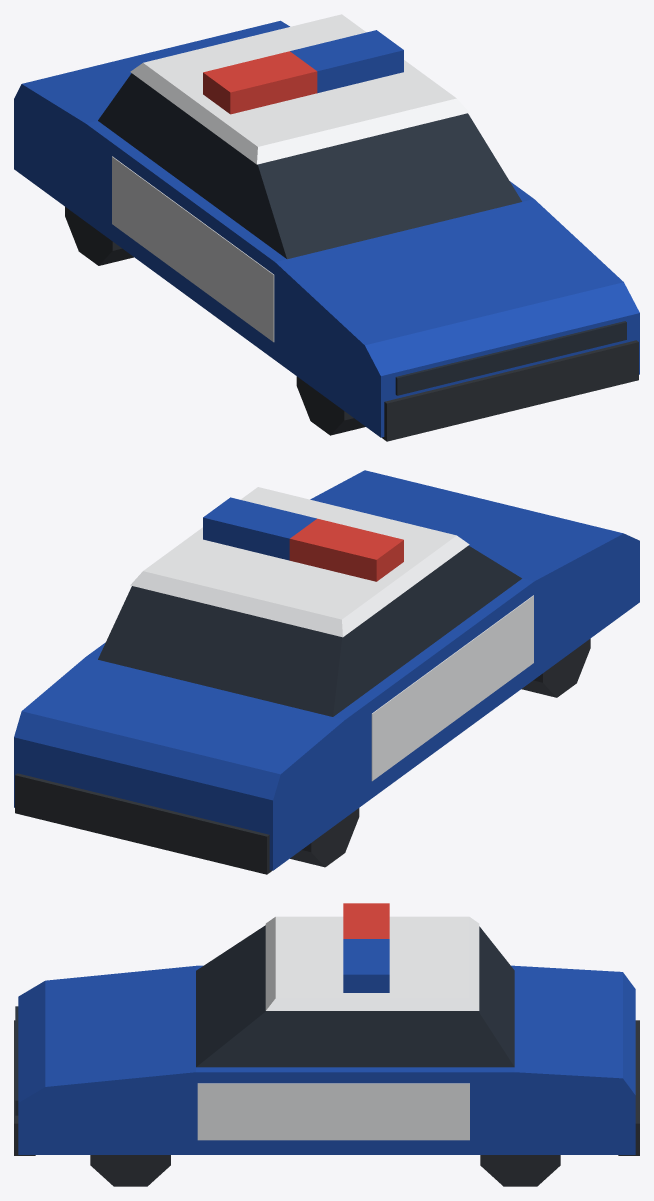
File: policecar.glb
The picture shows the model from 3 angles, top to bottom: view 1: azimuth 30°, elevation 25°; view 2: azimuth 150°, elevation 25°; view 3: azimuth 270°, elevation 25°; orthographic projection. The views are drawn at different scales.
Visible parts, largest first — view 1: trim, glass, paint, dark, lights; view 2: trim, paint, glass, dark, lights; view 3: trim, paint, glass, dark, lights.
Boxes of the visible parts, x1,y1,x2,y2 form: trim: (14,20,639,437); glass: (98,73,626,395); paint: (112,14,469,342); dark: (65,207,638,441); lights: (203,51,317,114); trim: (14,470,639,870); paint: (130,487,533,781); glass: (98,545,521,716); dark: (15,638,590,874); lights: (289,518,403,581); trim: (18,939,635,1154); paint: (197,916,479,1140); glass: (15,925,514,1115); dark: (14,1020,639,1186); lights: (343,903,389,938).
Bounding box in the file's own units: 1.86 × 1.6 × 4.6.
